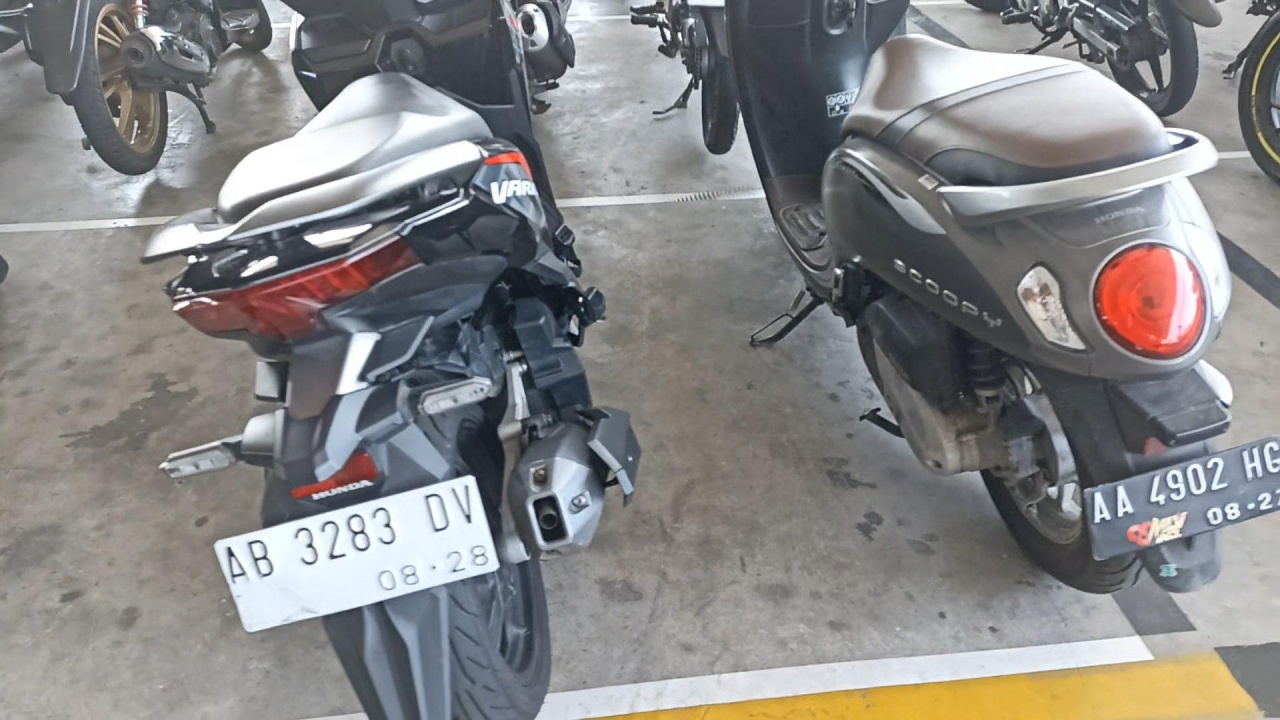plate: (214, 473, 503, 633), (1084, 437, 1280, 562)
